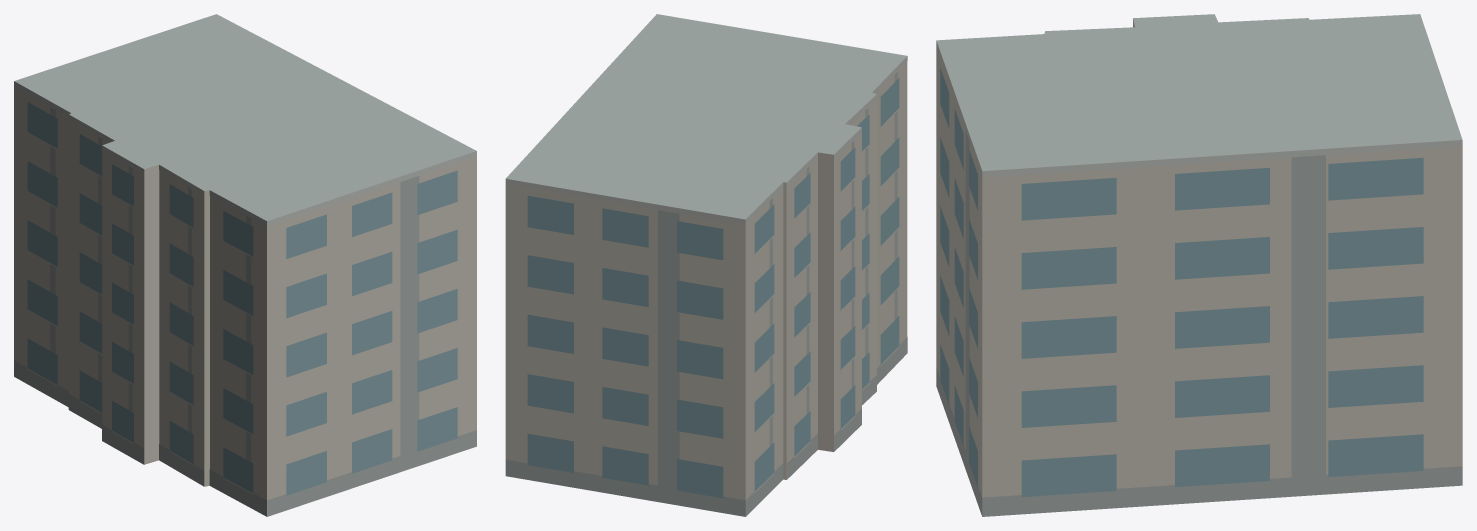
Rendered from survey-upis-32533015.glb.
3 renders of one model, left to right at view 1: azimuth 30°, elevation 25°; view 2: azimuth 150°, elevation 25°; view 3: azimuth 270°, elevation 25°, orthographic. The views are drawn at different scales.
Visible parts, largest first — view 1: survey-upis-32533015.tmp; view 2: survey-upis-32533015.tmp; view 3: survey-upis-32533015.tmp.
Part boxes in pixels (<box>): survey-upis-32533015.tmp: <box>14,14,476,516</box>; survey-upis-32533015.tmp: <box>505,14,907,516</box>; survey-upis-32533015.tmp: <box>936,14,1462,516</box>.
Size of the model in its own units: 12.88 by 13.2 by 18.22.
